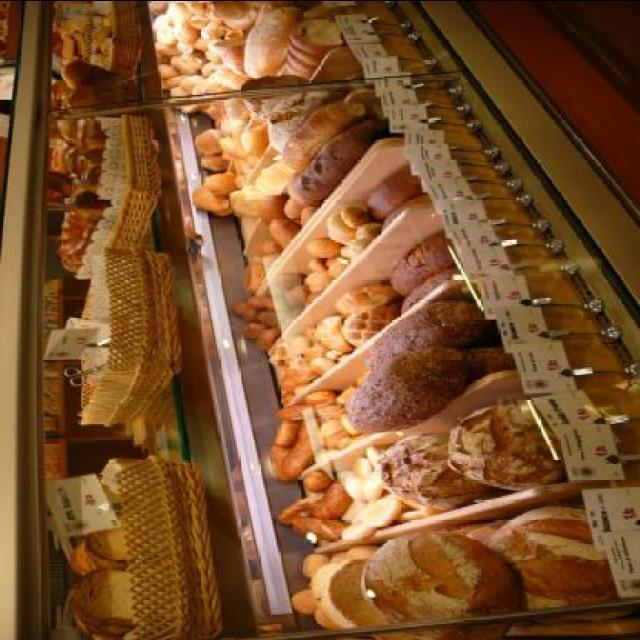Bread: (144, 2, 626, 640), (346, 533, 524, 630), (66, 509, 134, 640), (56, 127, 112, 270), (50, 61, 96, 179), (62, 10, 94, 64), (92, 9, 110, 65)
